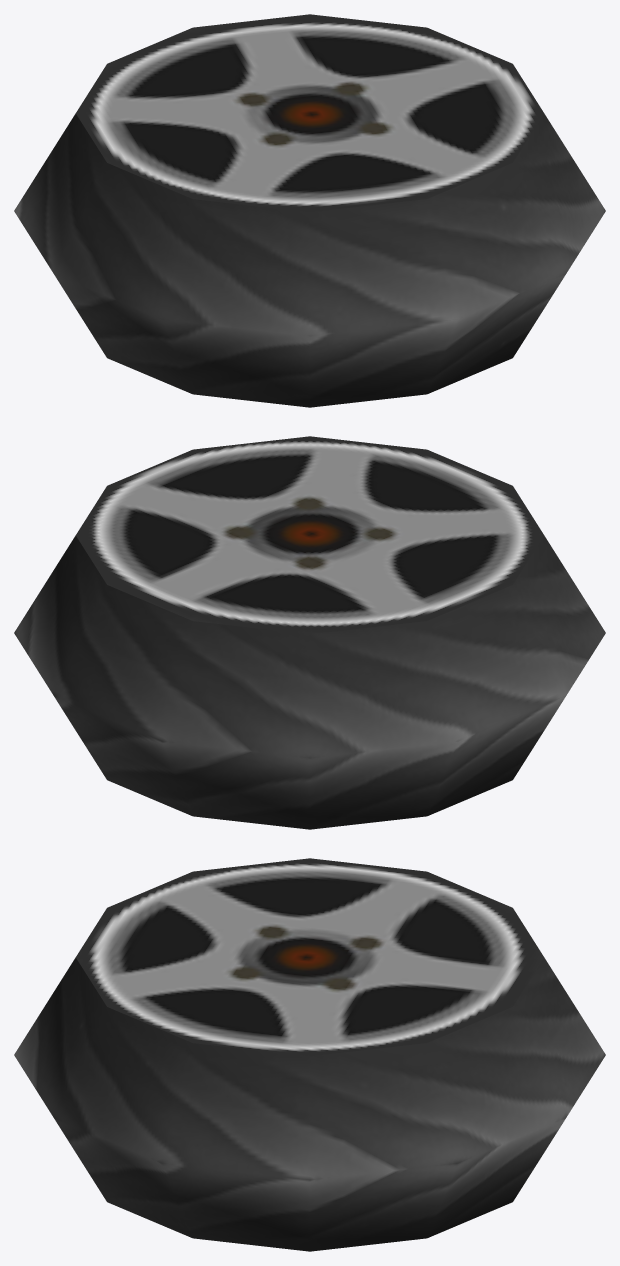
File: CasterWheel_Left.obj
The picture shows the model from 3 angles, top to bottom: view 1: azimuth 30°, elevation 25°; view 2: azimuth 150°, elevation 25°; view 3: azimuth 270°, elevation 25°; orthographic projection.
Visible parts, largest first — view 1: CasterWheel_Left; view 2: CasterWheel_Left; view 3: CasterWheel_Left.
Boxes of the visible parts, x1,y1,x2,y2 form: CasterWheel_Left: (14, 14, 605, 407); CasterWheel_Left: (14, 436, 605, 829); CasterWheel_Left: (14, 858, 605, 1251).
Size of the model in its own units: 0.0649 by 0.0236 by 0.0649.
1 material, 1 textured.
